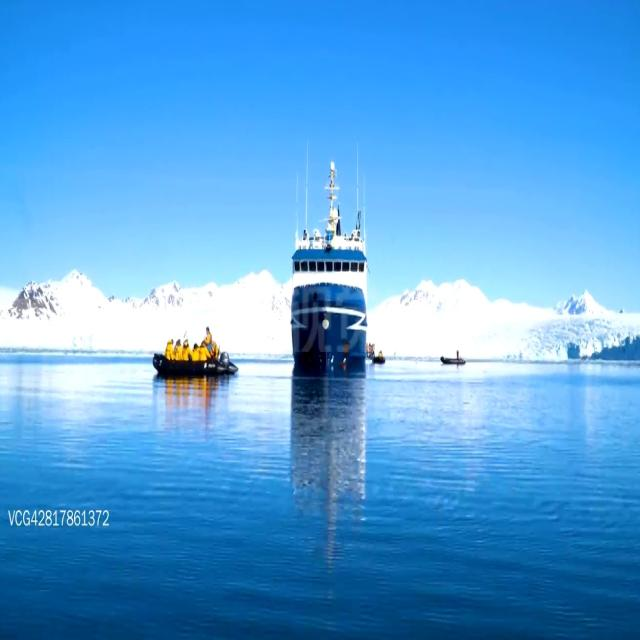houseboat: (150, 324, 238, 377), (440, 348, 468, 367), (370, 347, 387, 364)
passenger ship: (290, 163, 368, 378)
